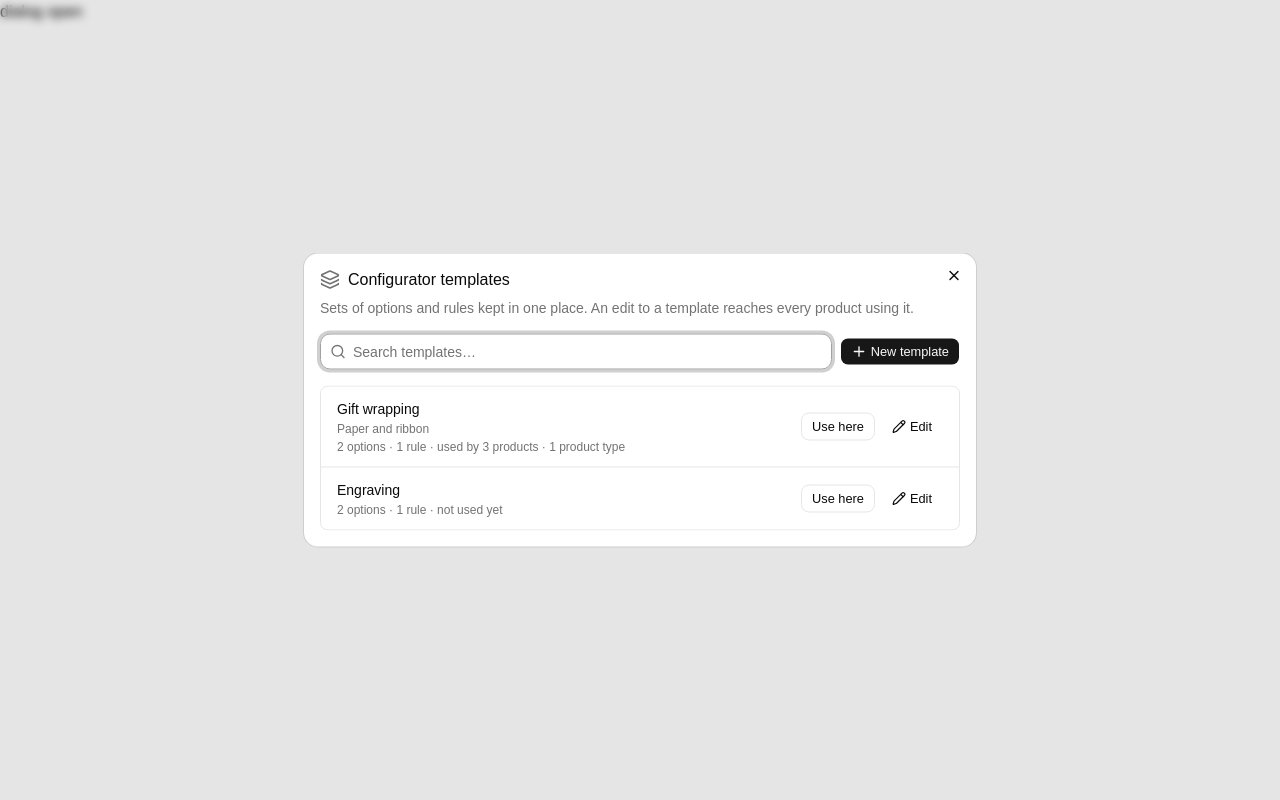
Test case: TemplatesDialog › says why a template could not be used and stays open
Expected: the text "Engraving" is shown, x1=337 y1=482 x2=400 y2=498
Step 1. Click the button "Use here" in the row of "Engraving" → (838, 498), box x1=801 y1=484 x2=875 y2=512
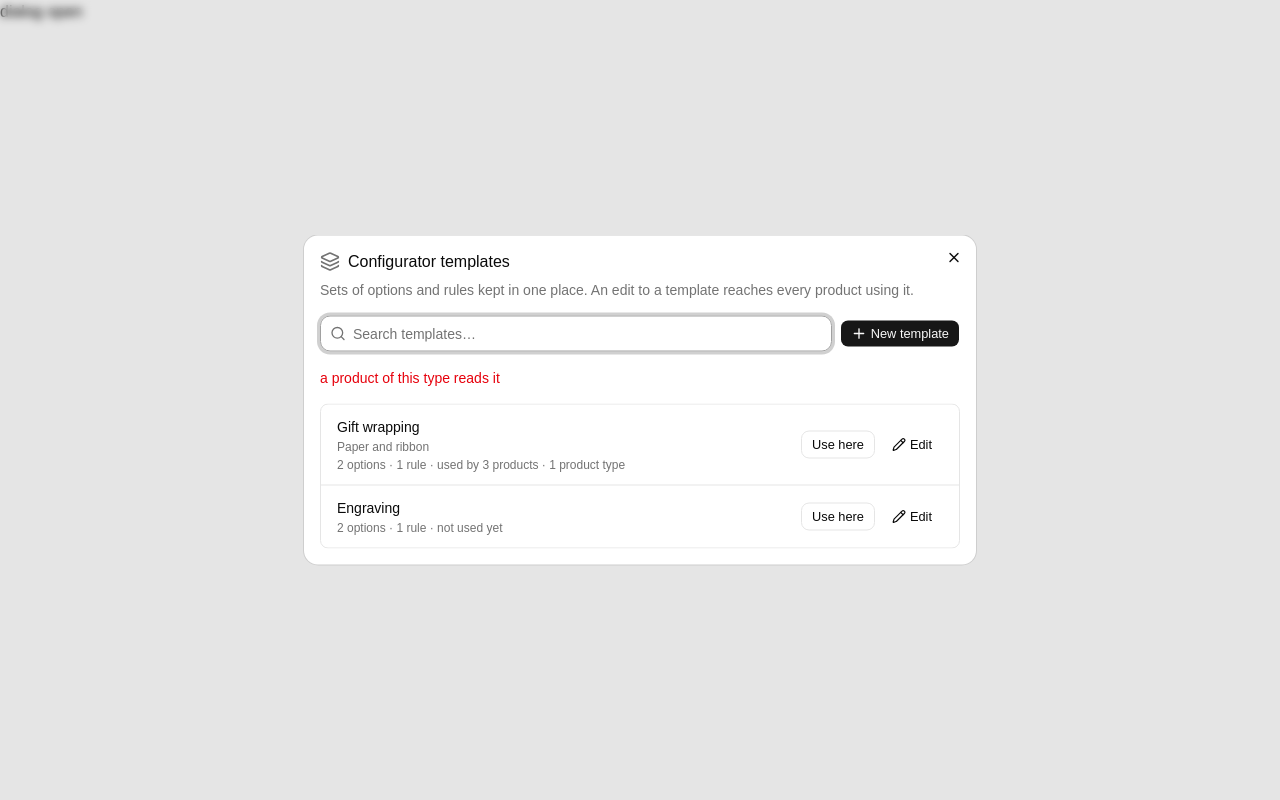
Expected: the text "dialog open" is shown, x1=0 y1=3 x2=83 y2=20
Expected: the text "a product of this type reads it" is shown, x1=320 y1=370 x2=500 y2=386
